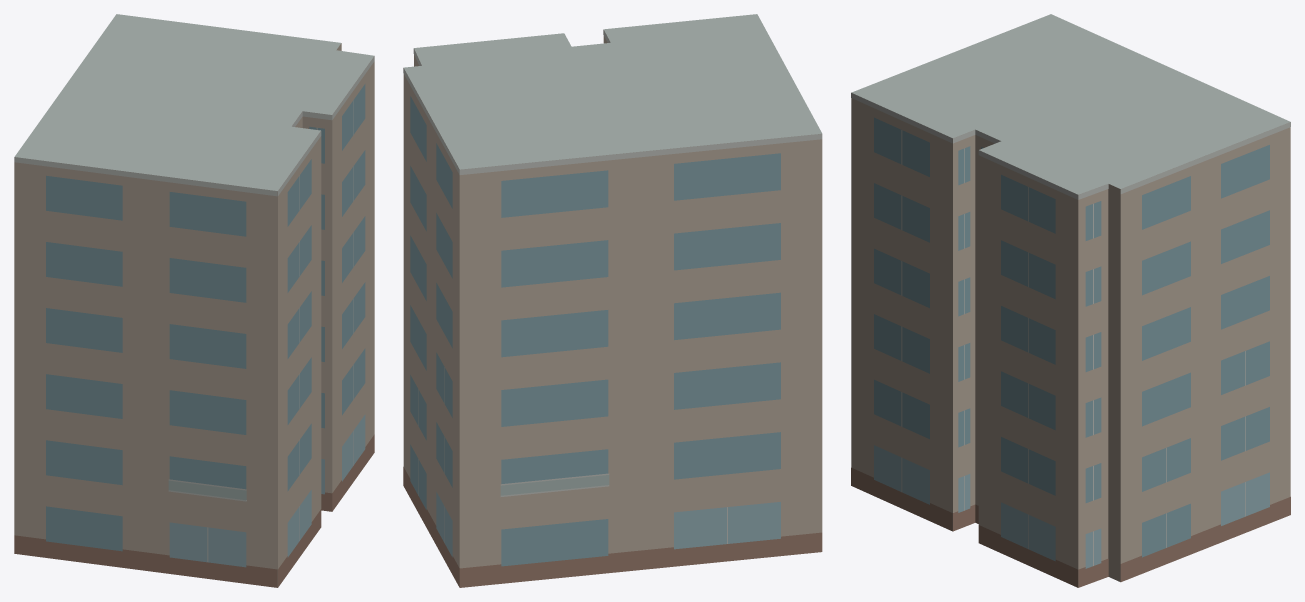
The model's file is survey-upis-32954017.glb.
3 views of the same model, side by side, from view 1: azimuth 30°, elevation 25°; view 2: azimuth 150°, elevation 25°; view 3: azimuth 270°, elevation 25° (orthographic). The views are drawn at different scales.
Visible parts, largest first — view 1: survey-upis-32954017.tmp; view 2: survey-upis-32954017.tmp; view 3: survey-upis-32954017.tmp.
Boxes of the visible parts, x1,y1,x2,y2 form: survey-upis-32954017.tmp: [14, 14, 374, 587]; survey-upis-32954017.tmp: [403, 14, 822, 587]; survey-upis-32954017.tmp: [851, 14, 1290, 587].
Bounding box in the file's own units: 18.05 × 18.3 × 18.55.
